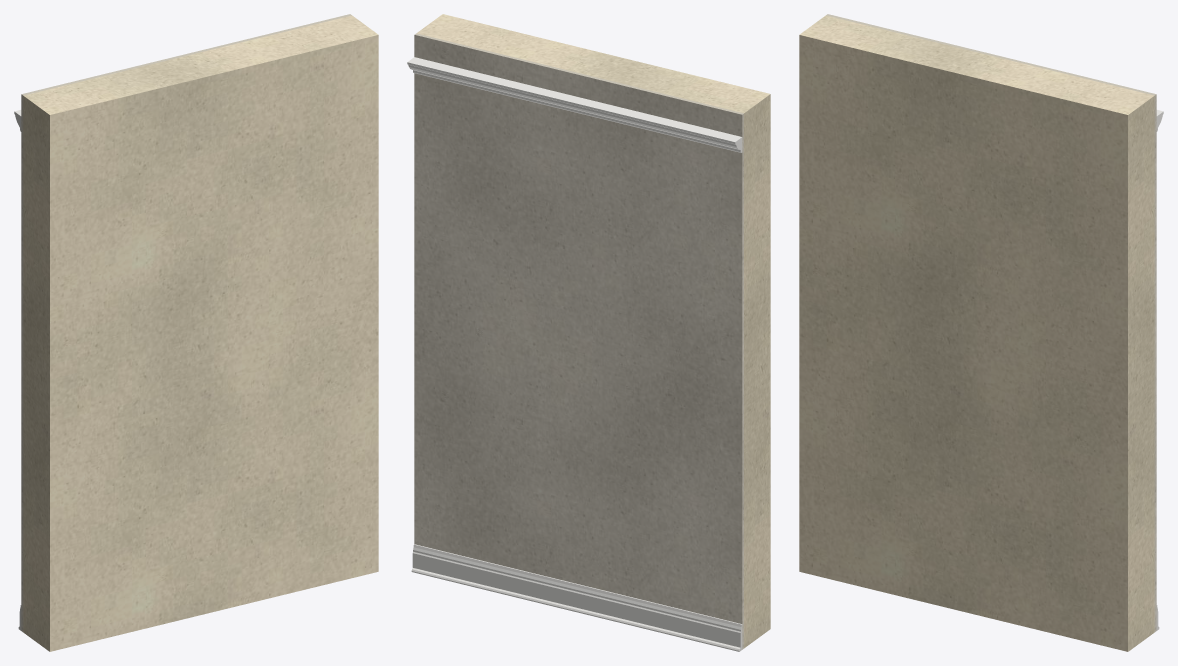
File: wall_plain.glb
The picture shows the model from 3 angles, left to right: view 1: azimuth 30°, elevation 25°; view 2: azimuth 150°, elevation 25°; view 3: azimuth 330°, elevation 25°; orthographic projection.
Visible parts, largest first — view 1: wall_plain_stucco, wall_plain_plaster; view 2: wall_plain_plaster, wall_plain_stucco, molduras; view 3: wall_plain_stucco, wall_plain_plaster.
Boxes of the visible parts, x1,y1,x2,y2 form: wall_plain_stucco: [23, 15, 378, 651]; wall_plain_plaster: [21, 14, 351, 631]; wall_plain_plaster: [414, 33, 743, 649]; wall_plain_stucco: [416, 14, 770, 648]; molduras: [407, 57, 742, 651]; wall_plain_stucco: [799, 15, 1154, 651]; wall_plain_plaster: [826, 14, 1156, 631].
Bounding box in the file's own units: 2 × 3.12 × 0.375.
Materials: 3 (2 with a texture image).
